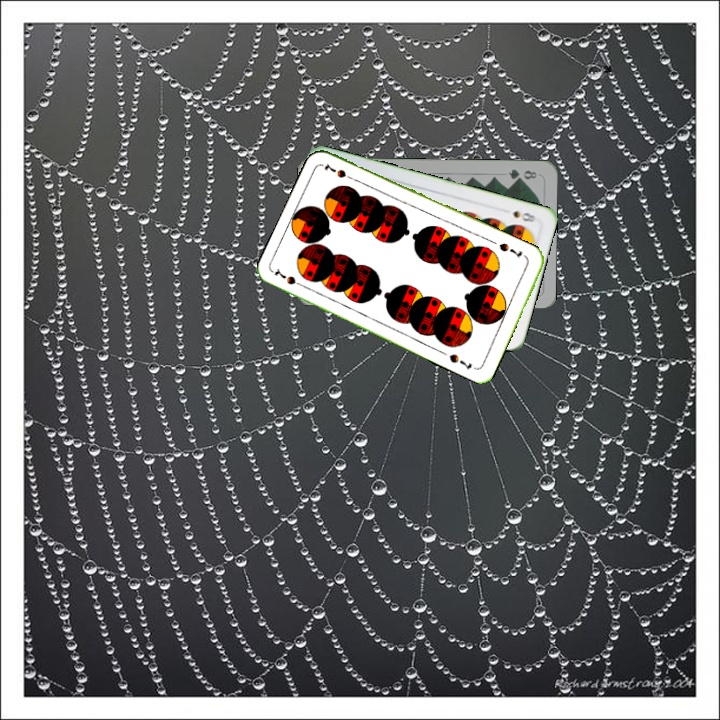G8: (504, 165, 539, 183)
S7: (270, 264, 309, 291), (495, 239, 525, 261)
S8: (509, 206, 538, 225)
